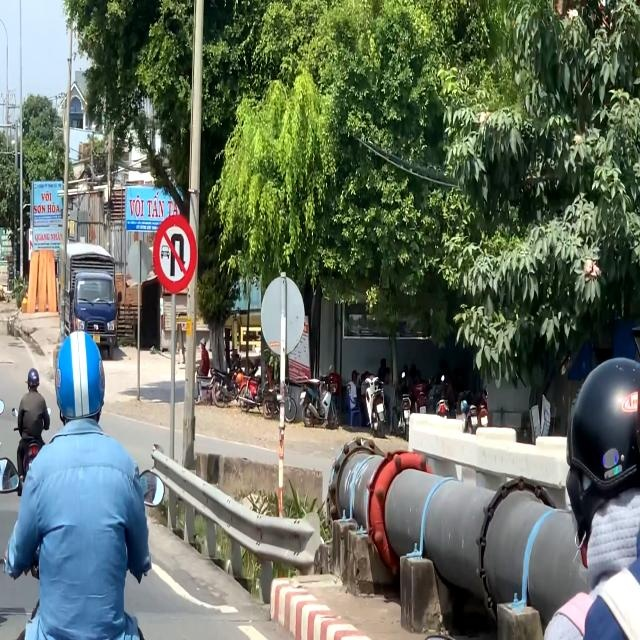bien_cam: (151, 211, 199, 298)
